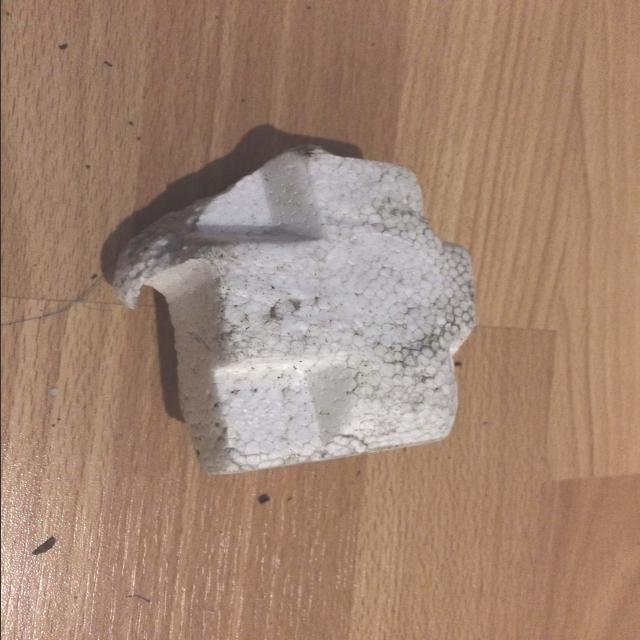Styrofoam piece: (111, 146, 474, 474)
